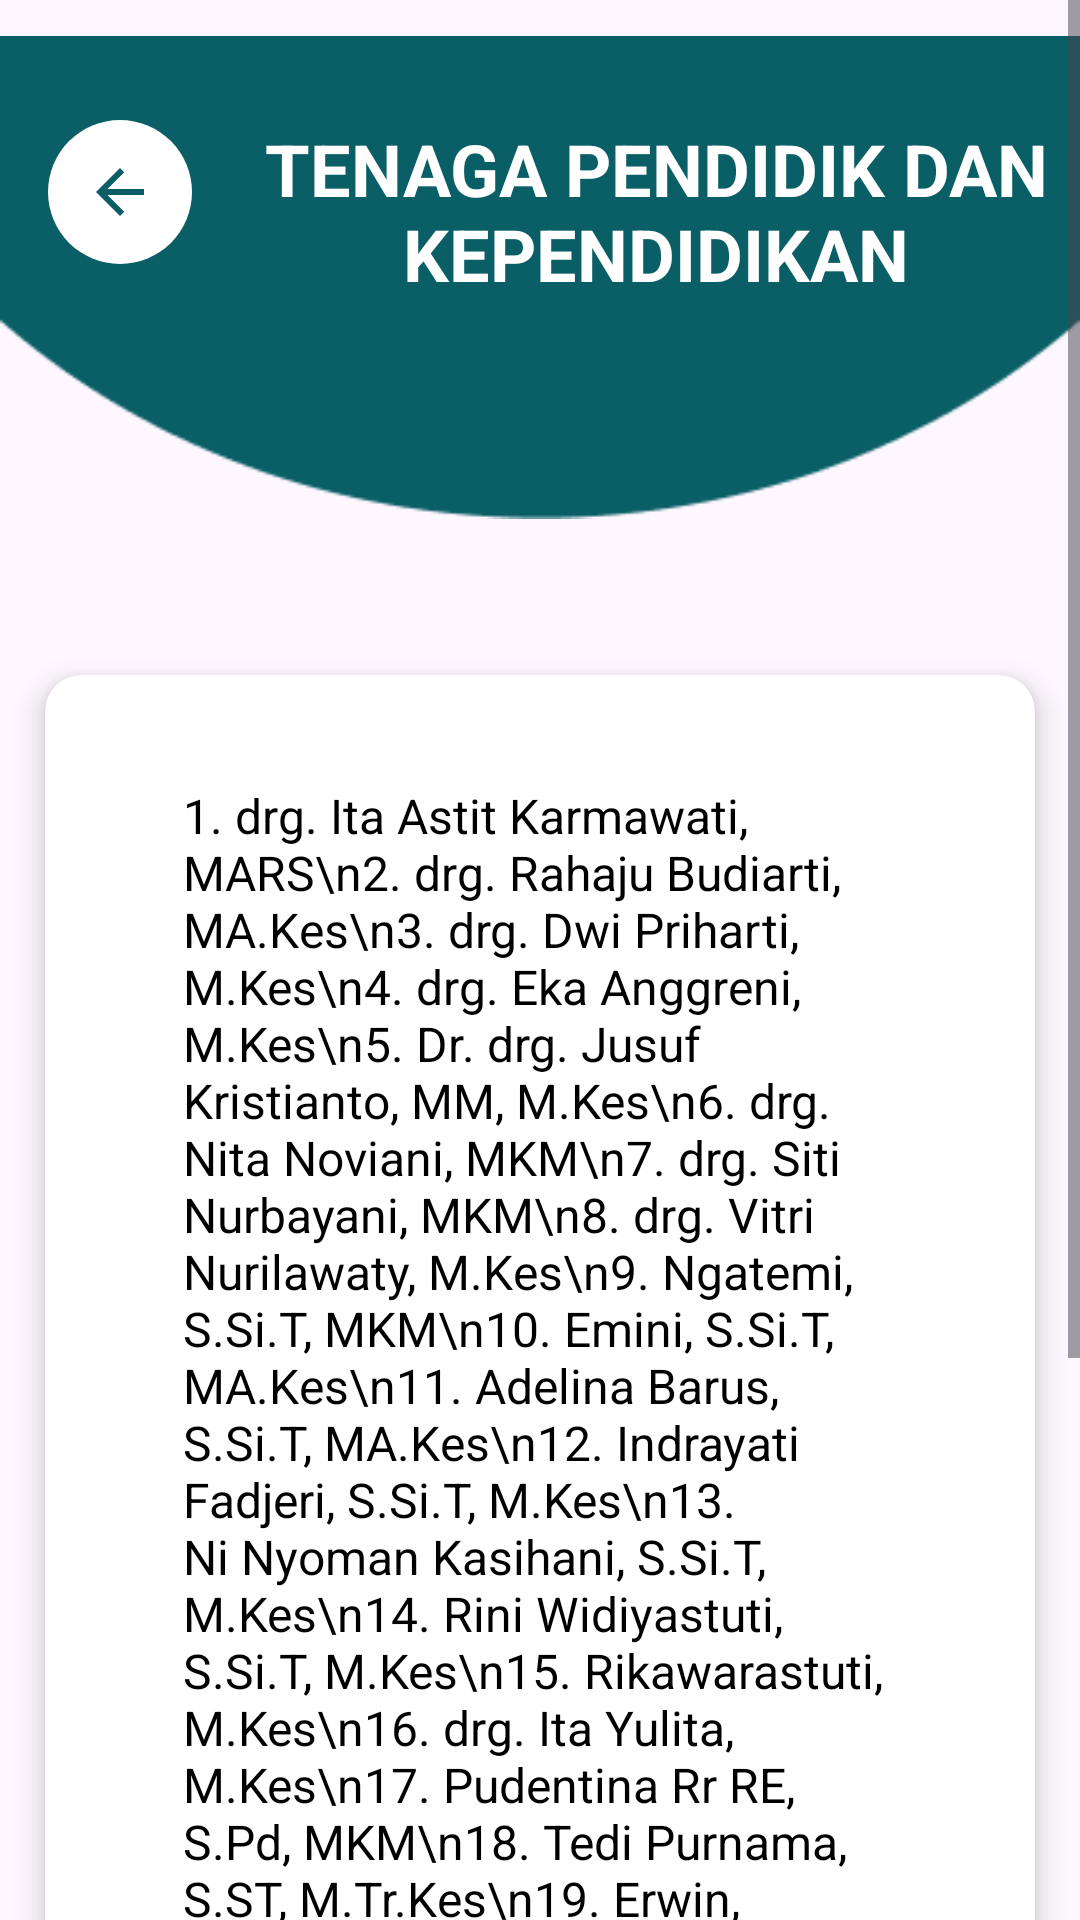

Point at icon controls on the screen. Image size 1080px×1920px, points as (x=x, y=y).
back: (x=120, y=192)
